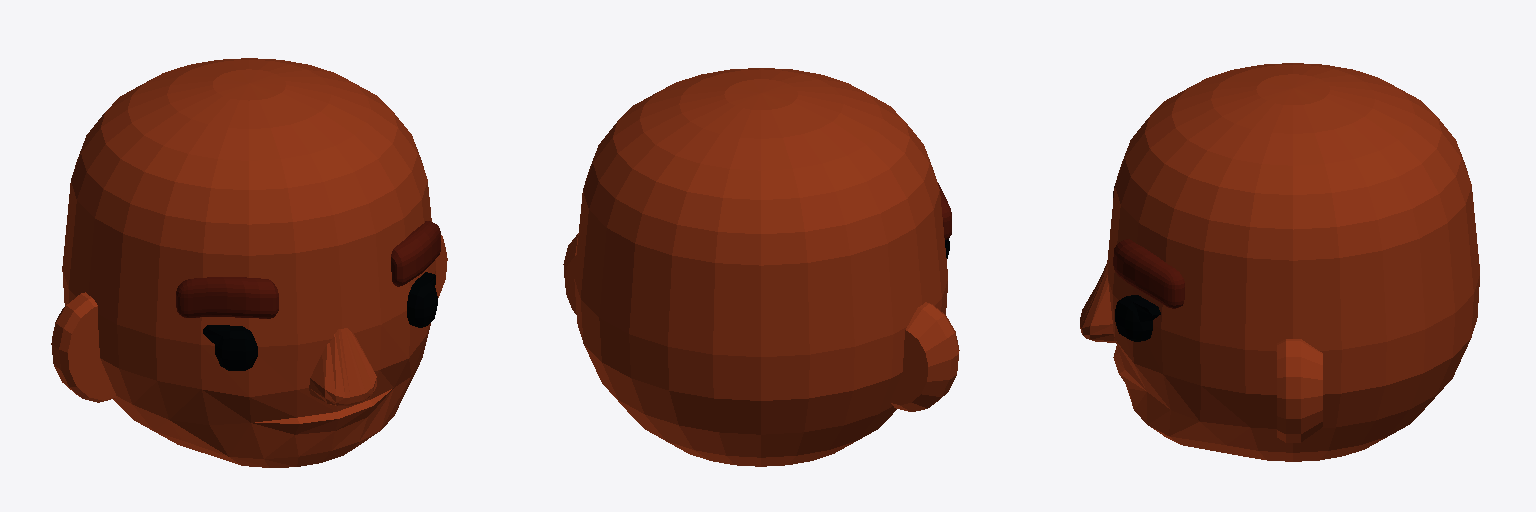
The model's file is mageHeadB.obj.
3 views of the same model, side by side, from view 1: azimuth 30°, elevation 25°; view 2: azimuth 150°, elevation 25°; view 3: azimuth 270°, elevation 25° (orthographic).
Parts seen in each view (by area): view 1: mageHeadB_Cube.3535; view 2: mageHeadB_Cube.3535; view 3: mageHeadB_Cube.3535.
Boxes of the visible parts, x1,y1,x2,y2 form: mageHeadB_Cube.3535: [51, 58, 447, 467]; mageHeadB_Cube.3535: [563, 68, 959, 466]; mageHeadB_Cube.3535: [1080, 63, 1479, 461].
Bounding box in the file's own units: 1.18 × 0.9703 × 1.05.